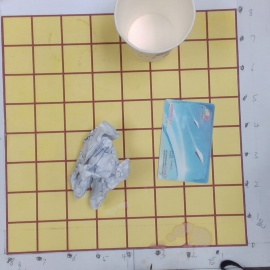card: (159, 99, 215, 183)
cup: (112, 1, 195, 59)
